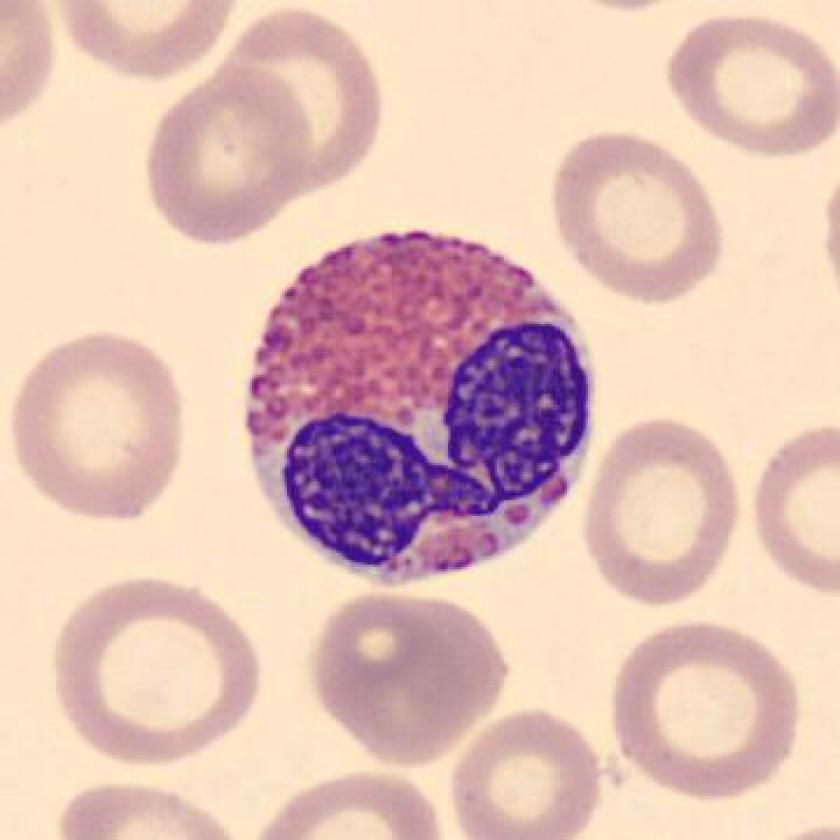eosinophil: (232, 216, 605, 598)
